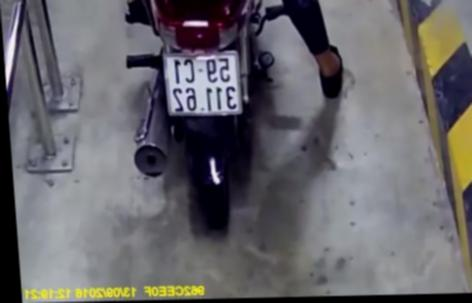License_Plate: (153, 44, 257, 120)
